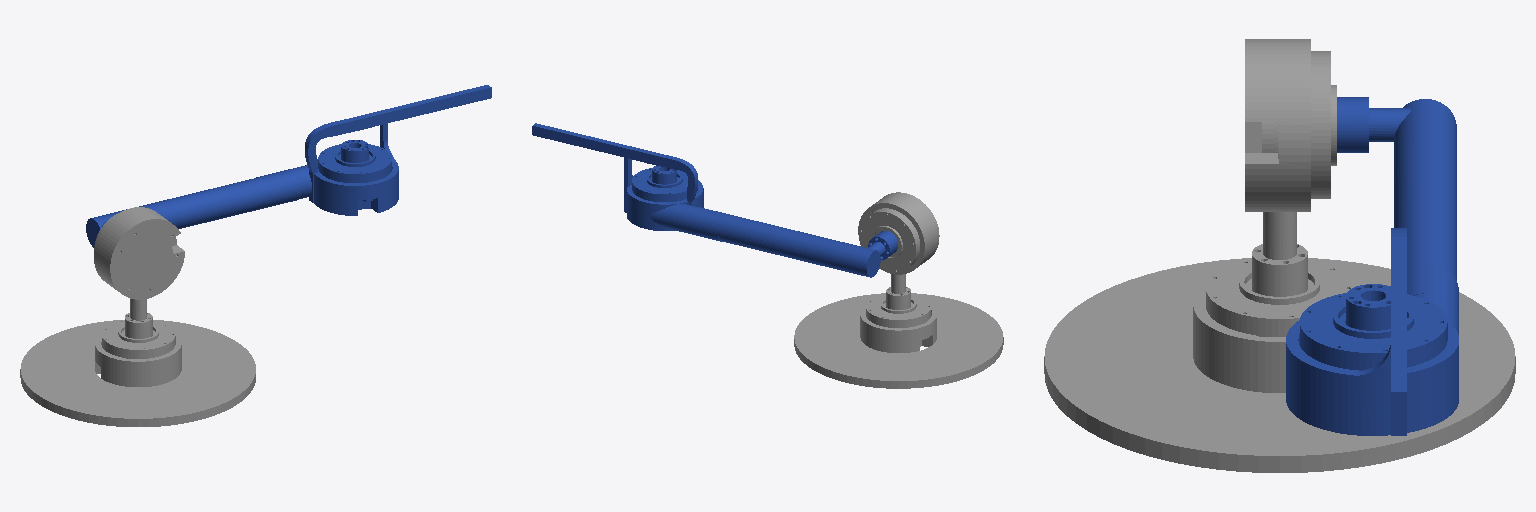
The robot description file, URDF, robot "assembly":
<?xml version="1.0" ?>
<robot name="assembly">
  <link name="base">
    <inertial>
      <origin rpy="0 0 0" xyz="0 0 0"/>
      <mass value="0.001"/>
      <inertia ixx="0.0001" ixy="0" ixz="0" iyy="0.0001" iyz="0" izz="0.0001"/>
    </inertial>
  </link>
  <joint name="floating_base" type="fixed">
    <origin rpy="0 0 0" xyz="0 0 0"/>
    <parent link="base"/>
    <child link="RS_01_Rotor"/>
  </joint>
  <link name="RS_01_Rotor">
    <visual>
      <origin xyz="0 0 0" rpy="0 0 0"/>
      <geometry>
        <mesh filename="meshes/RS_01_Rotor.stl"/>
      </geometry>
      <material name="RS_01_Rotor_material">
        <color rgba="0.23137255 0.38039216 0.70588235 1"/>
      </material>
    </visual>
    <collision>
      <origin xyz="0 0 0" rpy="0 0 0"/>
      <geometry>
        <mesh filename="meshes/RS_01_Rotor.stl"/>
      </geometry>
    </collision>
    <inertial>
      <mass value="1.7571451900000001"/>
      <inertia ixx="0.001176645641032968" iyy="0.01854663448975871" izz="0.019112014371822254" ixy="0.0002965141590615316" ixz="-0.0005855090493464634" iyz="4.3072809418566064e-05"/>
      <origin xyz="0.24381639263867638 0.026581957712590514 0.0018812767931817931" rpy="0 0 0"/>
    </inertial>
  </link>
  <joint name="Revolute-rob2" type="revolute">
    <origin xyz="7.9372476e-05 0 -7.648864e-05" rpy="1.5707963 0 0"/>
    <parent link="RS_01_Rotor"/>
    <child link="RS_01_Stator"/>
    <limit effort="80" velocity="5" lower="0" upper="0"/>
    <axis xyz="0 0 -1"/>
  </joint>
  <link name="RS_01_Stator">
    <visual>
      <origin xyz="0 0 0" rpy="0 0 0"/>
      <geometry>
        <mesh filename="meshes/RS_01_Stator.stl"/>
      </geometry>
      <material name="RS_01_Stator_material">
        <color rgba="0.64705882 0.64705882 0.64705882 1"/>
      </material>
    </visual>
    <collision>
      <origin xyz="0 0 0" rpy="0 0 0"/>
      <geometry>
        <mesh filename="meshes/RS_01_Stator.stl"/>
      </geometry>
    </collision>
    <inertial>
      <mass value="1.4118815100000002"/>
      <inertia ixx="0.0017838062536384824" iyy="0.0007383653459950936" izz="0.002155788340321322" ixy="6.914359559157729e-06" ixz="2.82203165241214e-06" iyz="8.826193453001782e-05"/>
      <origin xyz="-8.921886788884492e-05 -0.008805795250571498 0.01995713144486881" rpy="0 0 0"/>
    </inertial>
  </link>
  <joint name="Revolute-rob1" type="revolute">
    <origin xyz="0.00021297737 -0.09512682 0.02689800040862217" rpy="1.5707963999999994 4.641020678874952e-08 -3.141592653589792"/>
    <parent link="RS_01_Stator"/>
    <child link="RS_01_Stator_2"/>
    <limit effort="80" velocity="5" lower="0" upper="0"/>
    <axis xyz="0 0 -1"/>
  </joint>
  <link name="RS_01_Stator_2">
    <visual>
      <origin xyz="0 0 0" rpy="0 0 0"/>
      <geometry>
        <mesh filename="meshes/RS_01_Stator_2.stl"/>
      </geometry>
      <material name="RS_01_Stator_material_2">
        <color rgba="0.64705882 0.64705882 0.64705882 1"/>
      </material>
    </visual>
    <collision>
      <origin xyz="0 0 0" rpy="0 0 0"/>
      <geometry>
        <mesh filename="meshes/RS_01_Stator_2.stl"/>
      </geometry>
    </collision>
    <inertial>
      <mass value="1.82981498"/>
      <inertia ixx="0.003447477733869174" iyy="0.0034336912616858115" izz="0.006004219302821596" ixy="-2.2636207772437855e-06" ixz="2.064376446282922e-06" iyz="5.174763510332199e-07"/>
      <origin xyz="2.162658737066271e-05 7.481511817518568e-05 -0.027150898031732783" rpy="0 0 0"/>
    </inertial>
  </link>
  <joint name="Revolute-rob3" type="revolute">
    <origin xyz="0.29425767043217144 0.02288570915392272 0.021934098980723373" rpy="-3.1415926 2.220446049250313e-15 7.1795869249768884e-09"/>
    <parent link="RS_01_Rotor"/>
    <child link="RS_01_Rotor_2"/>
    <limit effort="80" velocity="5" lower="0" upper="0"/>
    <axis xyz="0 0 1"/>
  </joint>
  <link name="RS_01_Rotor_2">
    <visual>
      <origin xyz="0 0 0" rpy="0 0 0"/>
      <geometry>
        <mesh filename="meshes/RS_01_Rotor_2.stl"/>
      </geometry>
      <material name="RS_01_Rotor_material_2">
        <color rgba="0.23137255 0.38039216 0.70588235 1"/>
      </material>
    </visual>
    <collision>
      <origin xyz="0 0 0" rpy="0 0 0"/>
      <geometry>
        <mesh filename="meshes/RS_01_Rotor_2.stl"/>
      </geometry>
    </collision>
    <inertial>
      <mass value="0.11913305"/>
      <inertia ixx="1.6973167e-05" iyy="1.6967284e-05" izz="1.5469864e-05" ixy="0" ixz="0" iyz="0"/>
      <origin xyz="-7.9372476e-05 7.648864e-05 0" rpy="0 0 0"/>
    </inertial>
  </link>
</robot>

--- Facts derived from the render (not from the file) ---
The picture shows the robot from 3 angles, left to right: view 1: azimuth 30°, elevation 25°; view 2: azimuth 150°, elevation 25°; view 3: azimuth 270°, elevation 25°; orthographic projection.
Robot: assembly — 5 links, 4 joints (3 revolute, 1 fixed); root link base; default pose: all joints at 0.
Visible links, largest first — view 1: RS_01_Stator_2, RS_01_Rotor, RS_01_Stator, RS_01_Rotor_2; view 2: RS_01_Stator_2, RS_01_Rotor, RS_01_Stator; view 3: RS_01_Stator_2, RS_01_Rotor, RS_01_Stator, RS_01_Rotor_2.
Link boxes in pixels (box(x1,y1,x2,y2)): RS_01_Stator_2: box(20, 320, 255, 426); RS_01_Rotor: box(86, 85, 491, 247); RS_01_Stator: box(94, 207, 184, 338); RS_01_Rotor_2: box(341, 140, 368, 162); RS_01_Stator_2: box(794, 293, 1003, 388); RS_01_Rotor: box(532, 123, 897, 277); RS_01_Stator: box(858, 192, 939, 309); RS_01_Stator_2: box(1044, 258, 1515, 472); RS_01_Rotor: box(1286, 97, 1458, 435); RS_01_Stator: box(1245, 39, 1336, 296); RS_01_Rotor_2: box(1346, 284, 1390, 330).
Bounding box of the posed robot: 0.5917 × 0.25 × 0.2074 m (x, y, z).
4 mesh visuals loaded from 4 distinct referenced files (4 binary STL).